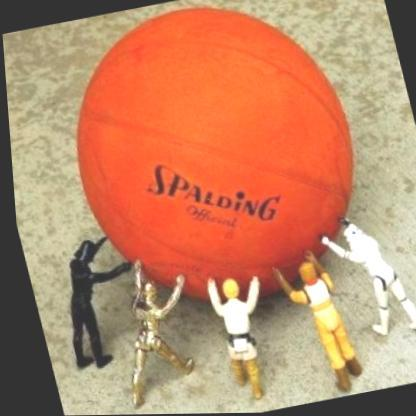basketball: (41, 0, 389, 323)
